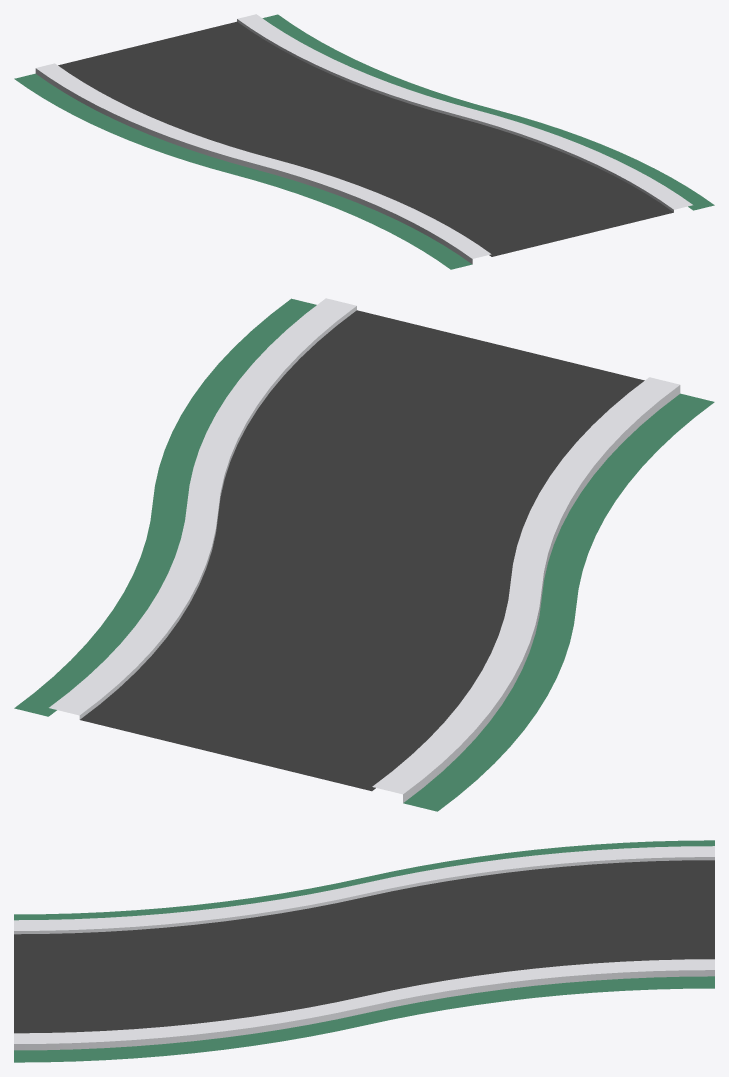
File: road-curved.glb
3 views of the same model, one above another, from view 1: azimuth 30°, elevation 25°; view 2: azimuth 150°, elevation 25°; view 3: azimuth 270°, elevation 25° (orthographic). The views are drawn at different scales.
Visible parts, largest first — view 1: roadCurved(Clone); view 2: roadCurved(Clone); view 3: roadCurved(Clone).
Boxes of the visible parts, x1,y1,x2,y2 form: roadCurved(Clone): (14,14,714,269); roadCurved(Clone): (14,298,714,811); roadCurved(Clone): (14,840,714,1062).
Size of the model in its own units: 1.5 by 0.02 by 2.
